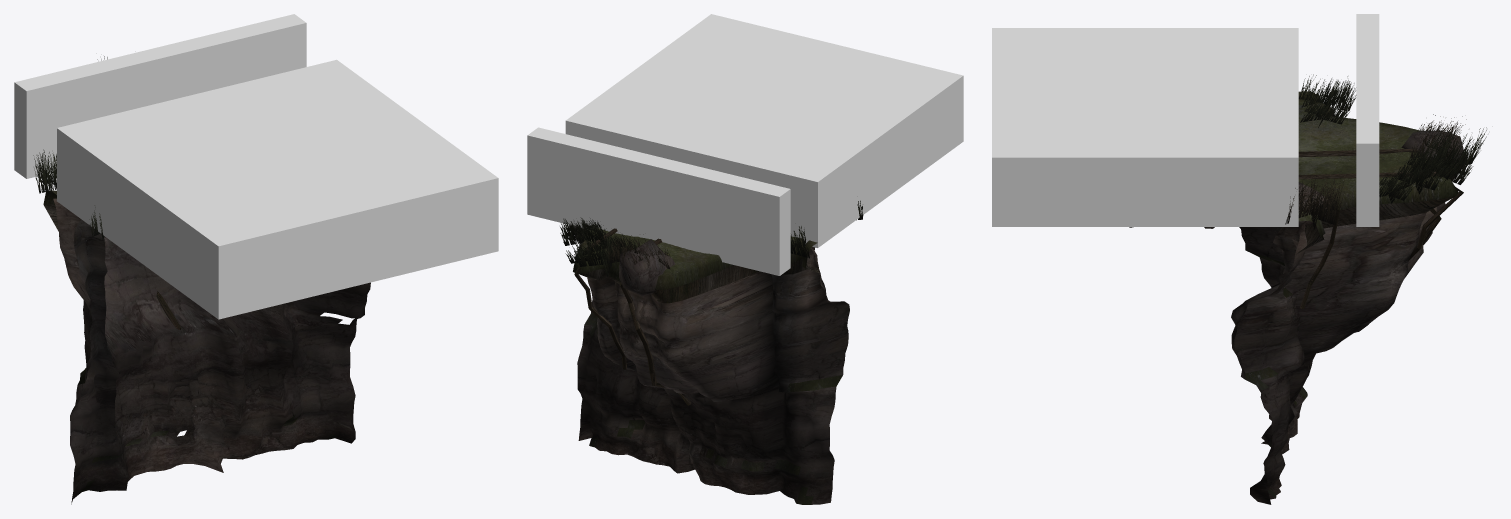
File: cliff_edge_overhang_4m.glb
3 renders of one model, left to right at view 1: azimuth 30°, elevation 25°; view 2: azimuth 150°, elevation 25°; view 3: azimuth 270°, elevation 25°, orthographic. The views are drawn at different scales.
Parts seen in each view (by area): view 1: col_walk_cliff_edge_overhang_4m, cliff_edge_overhang_4m, col_block_rim_cliff_edge_overhang_4m_0; view 2: cliff_edge_overhang_4m, col_walk_cliff_edge_overhang_4m, col_block_rim_cliff_edge_overhang_4m_0; view 3: col_walk_cliff_edge_overhang_4m, cliff_edge_overhang_4m, col_block_rim_cliff_edge_overhang_4m_0.
Part boxes in pixels (<box>): col_walk_cliff_edge_overhang_4m: <box>57,59,498,319</box>; cliff_edge_overhang_4m: <box>33,56,370,504</box>; col_block_rim_cliff_edge_overhang_4m_0: <box>14,14,306,178</box>; cliff_edge_overhang_4m: <box>560,200,863,504</box>; col_walk_cliff_edge_overhang_4m: <box>565,14,963,247</box>; col_block_rim_cliff_edge_overhang_4m_0: <box>527,127,790,275</box>; col_walk_cliff_edge_overhang_4m: <box>992,28,1298,226</box>; cliff_edge_overhang_4m: <box>1129,74,1486,504</box>; col_block_rim_cliff_edge_overhang_4m_0: <box>1356,14,1379,226</box>.
Size of the model in its own units: 4.41 by 5.2 by 6.58.
Materials: 5 (5 with a texture image).
